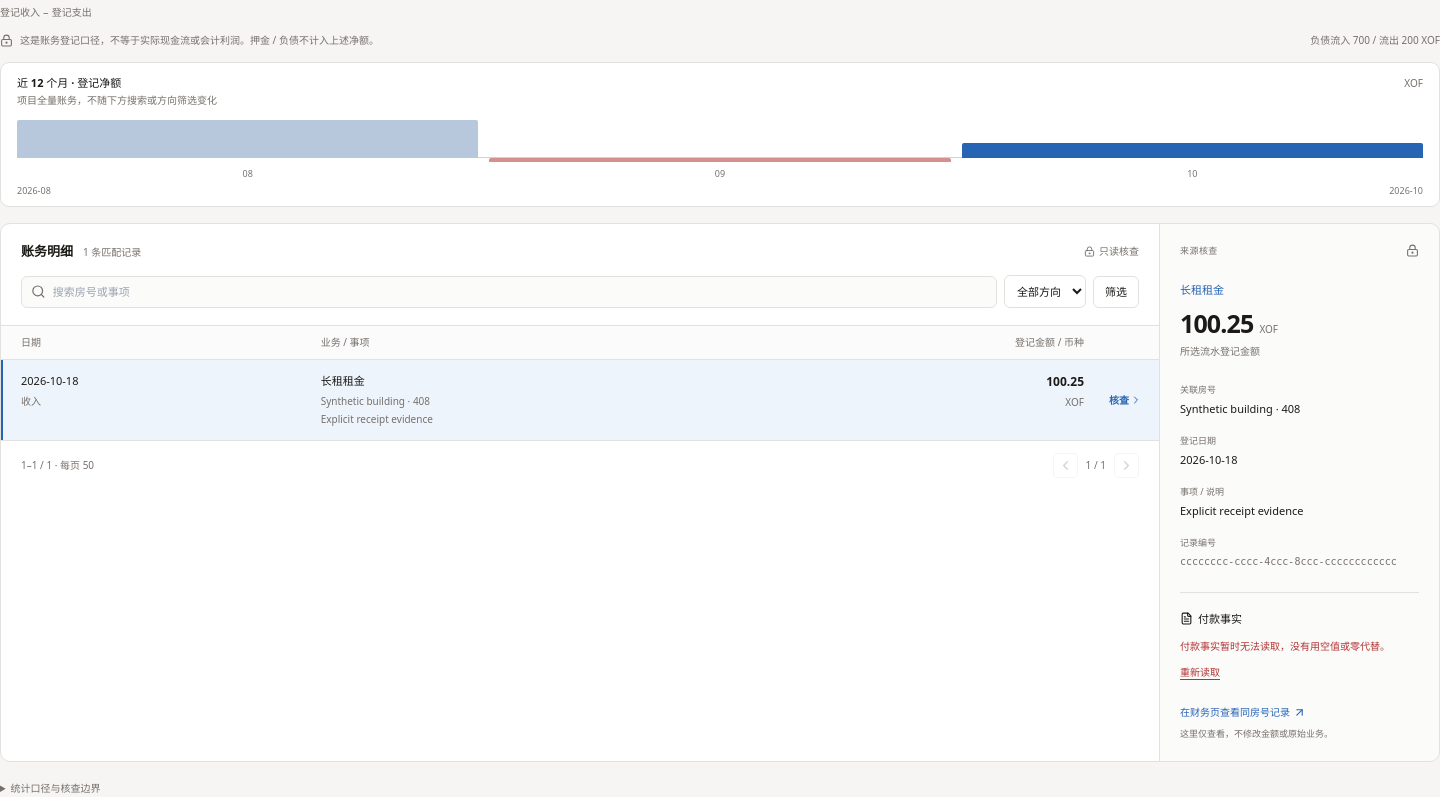
Scenario: selected financial source retrieval › rejects a payment context for another record and lets the user retry instead of displaying fake facts
(page scrolled)
Check: the message "付款事实暂时无法读取，没有用空值或零代替。 重新读取" is shown, box [1180,639,1419,683]
Check: the text "12.25 CNY" is not shown
Click the button "重新读取": x=1200, y=673 [1180,662,1220,683]
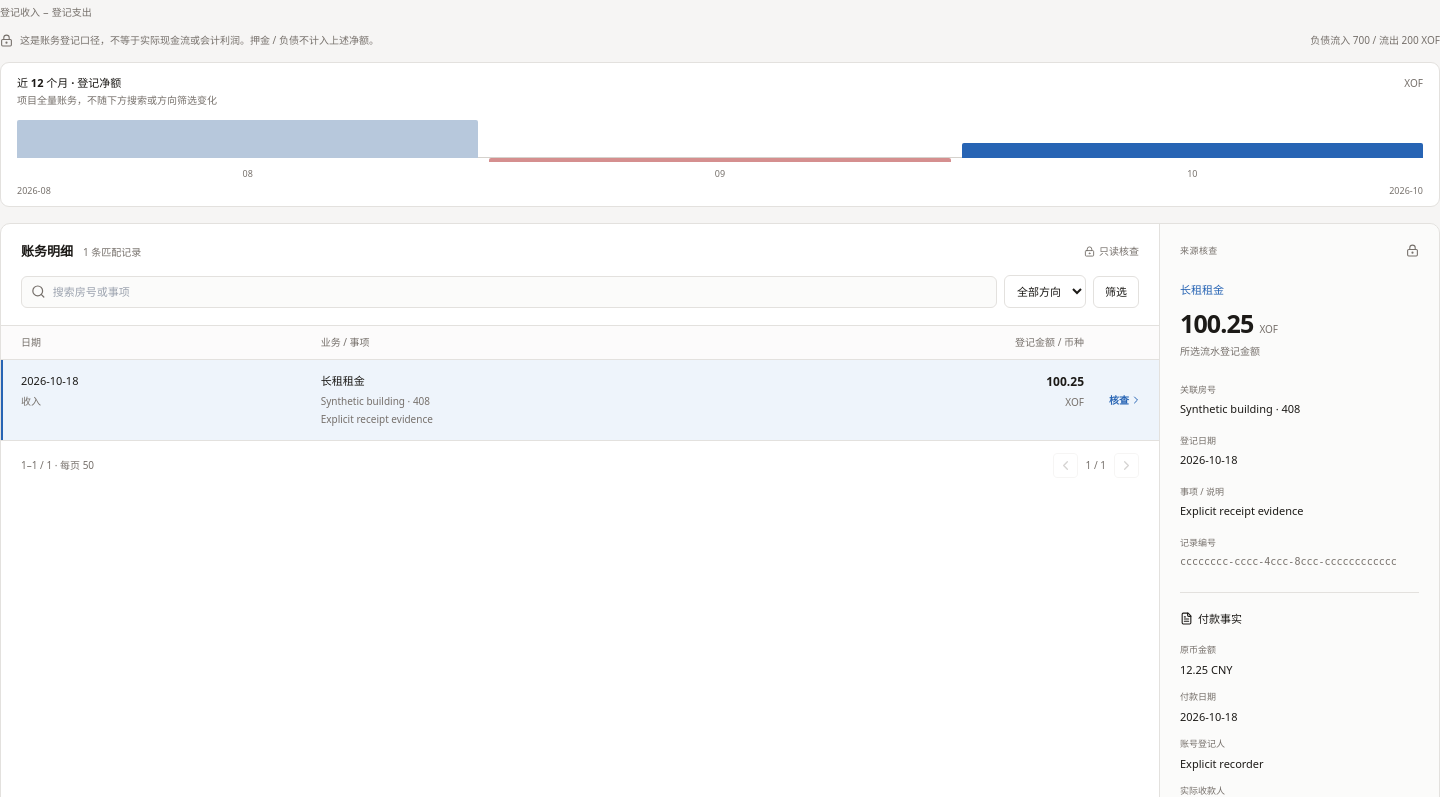
Check: the message "付款事实暂时无法读取，没有用空值或零代替。 重新读取" is gone
Check: the text "12.25 CNY" is shown, box [1180,662,1232,677]
